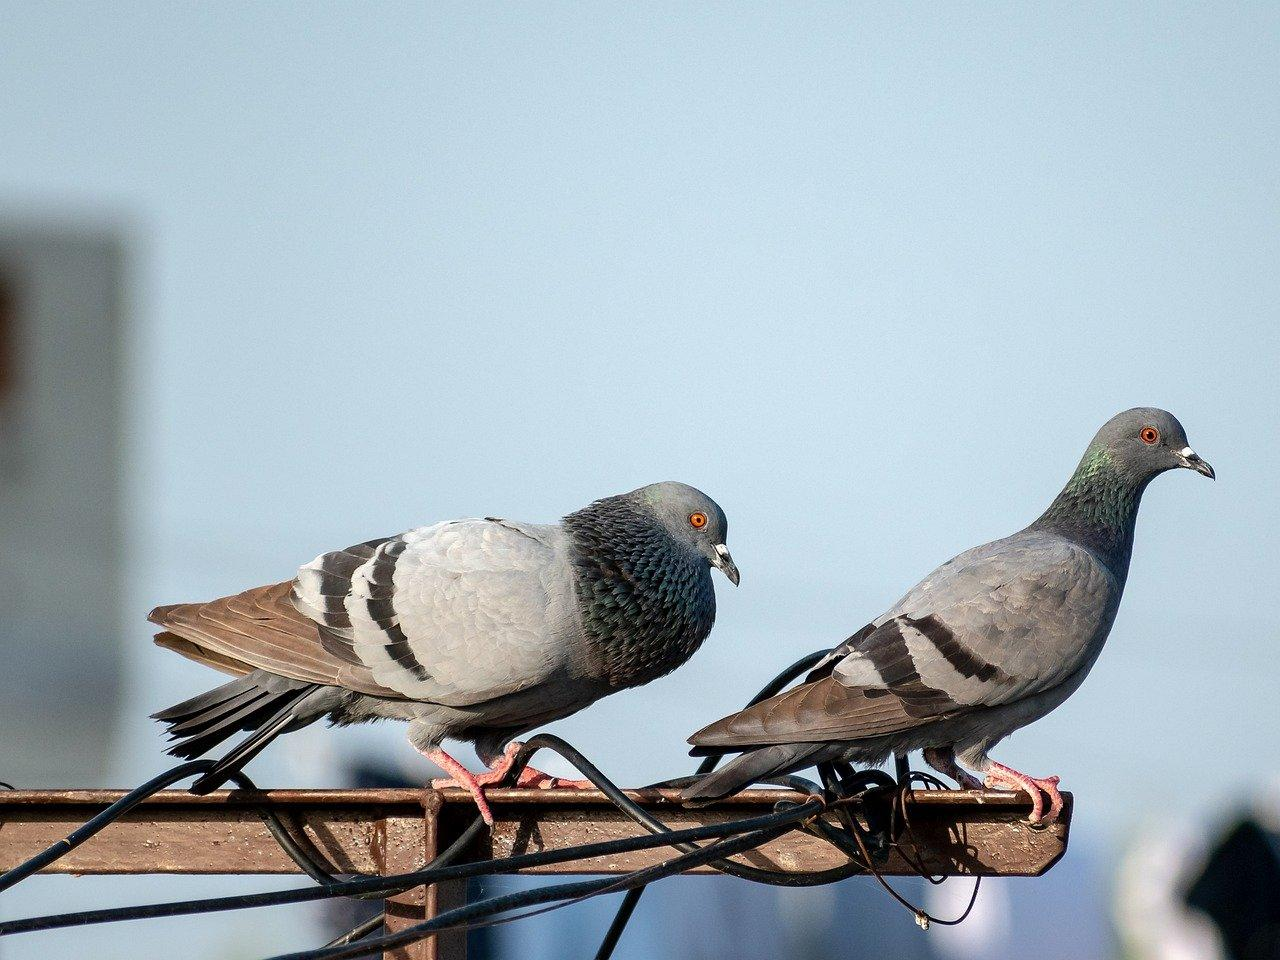Flying Rat: (721, 401, 1217, 802), (154, 482, 738, 784)
